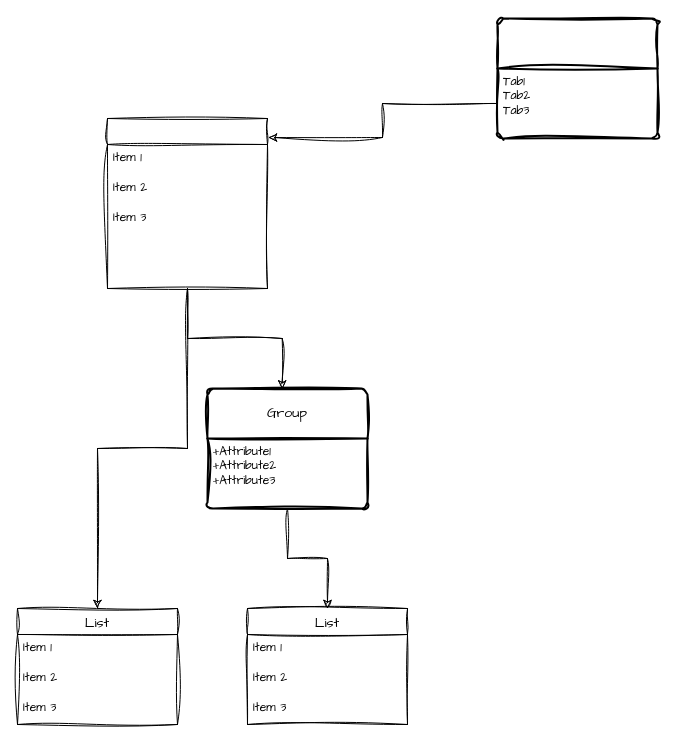
This 676x744 diagram has some shape labels left out. Here are the shapes that lost their labels. From the top down, the box of each, then its label:
(496, 17, 658, 139): StyledTab
(106, 118, 268, 288): TabPage1
